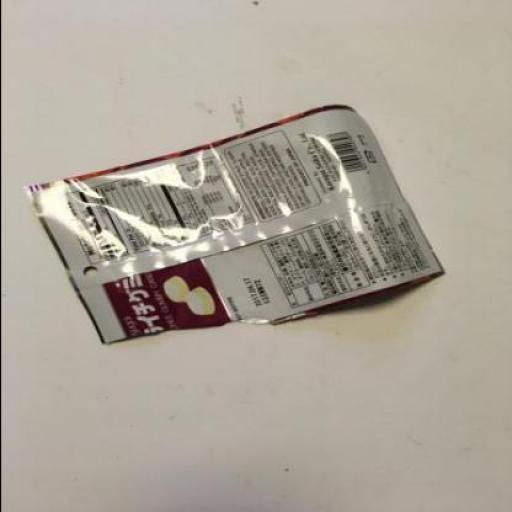plastic: (24, 104, 445, 345)
